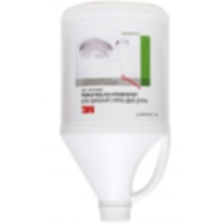cleaning_solution: (57, 2, 170, 219)
